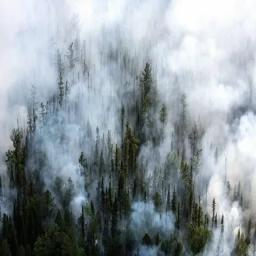Heavy smoke: (0, 6, 252, 252)
